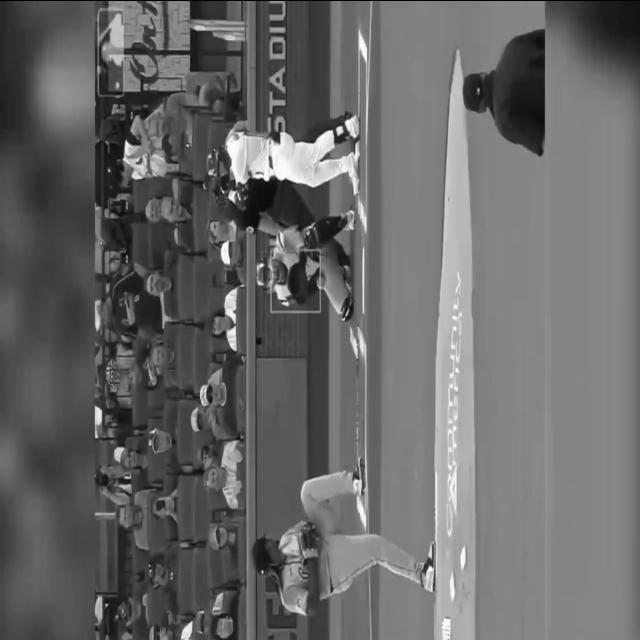base: (361, 245, 366, 312)
baseball_glove: (299, 522, 321, 560), (288, 264, 308, 302)
bat: (220, 75, 233, 139)
shoe: (422, 538, 436, 592), (354, 456, 366, 493), (348, 154, 359, 192), (349, 114, 359, 150), (346, 210, 356, 229)
